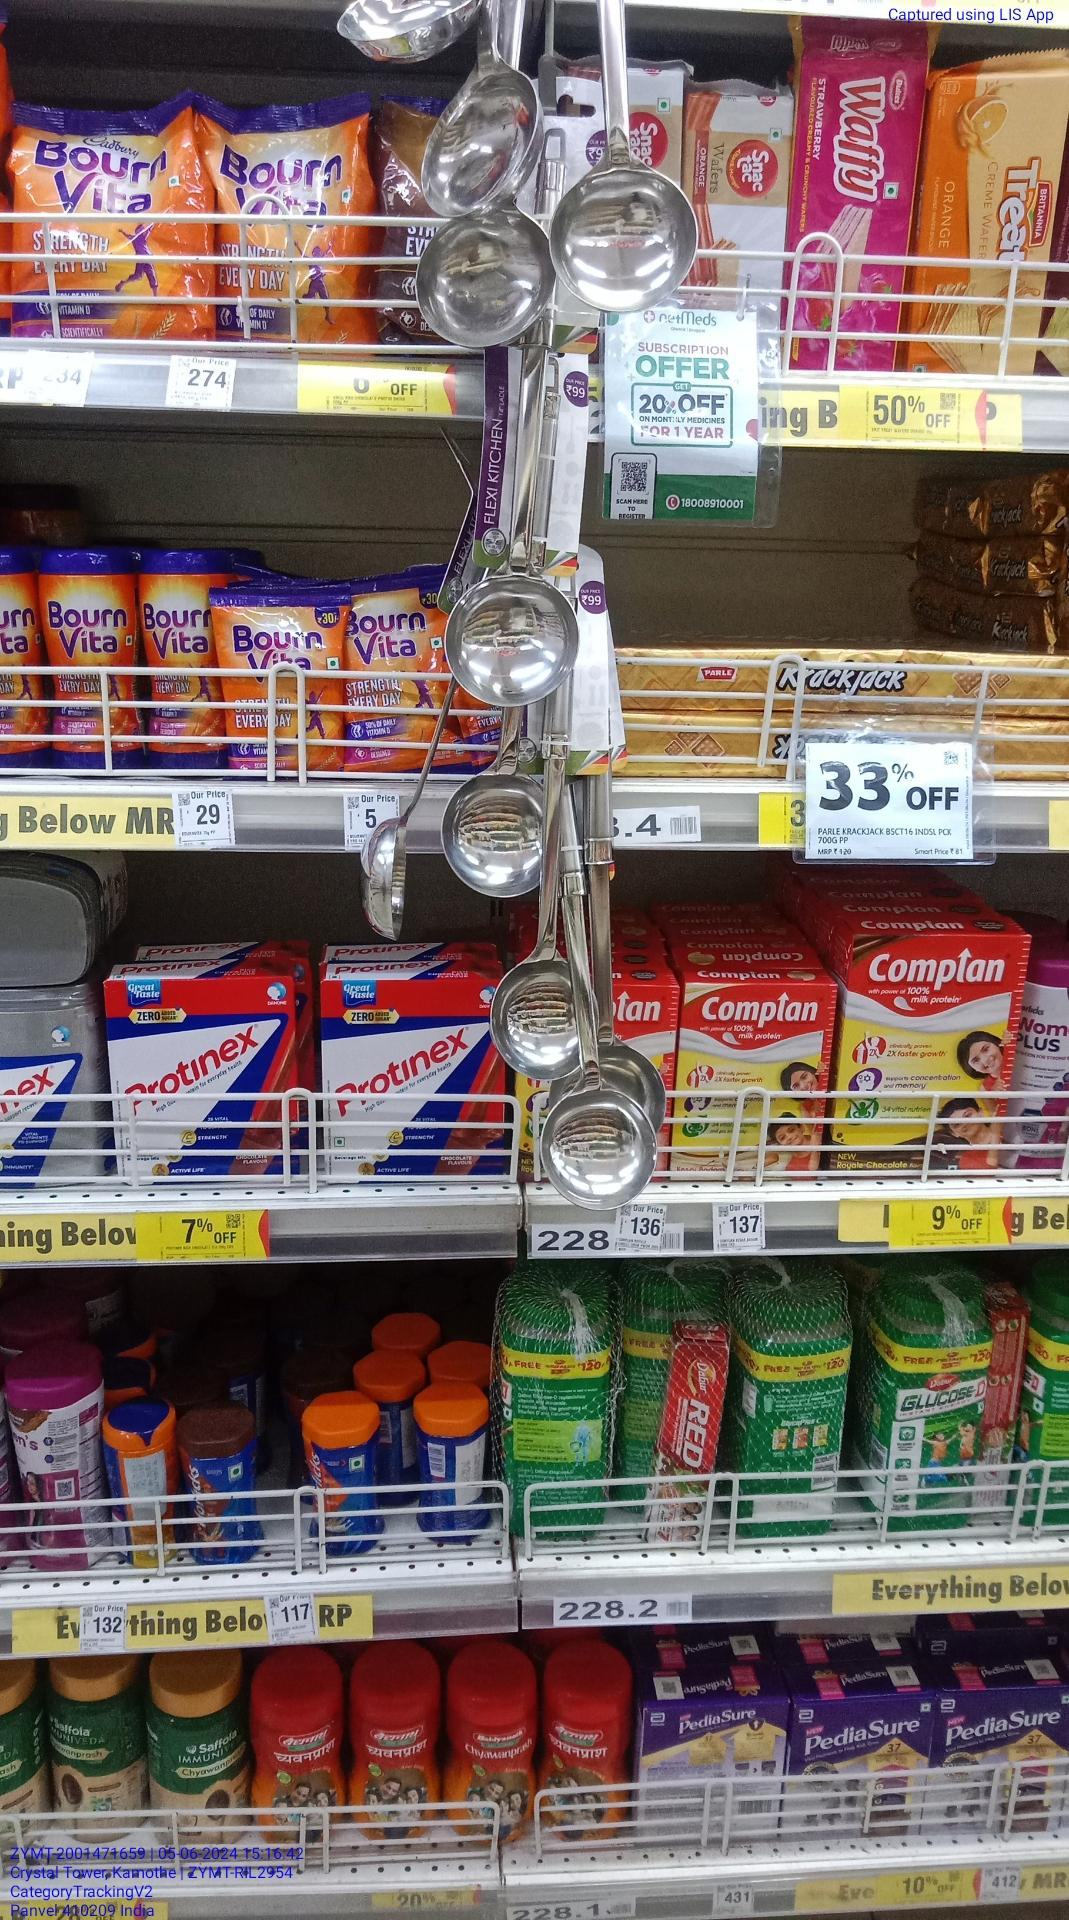BOURN_VITA_200_G_JAR: (39, 543, 134, 780), (145, 543, 211, 770)
BOURN_VITA_500_G_POUCH: (8, 104, 209, 324), (213, 104, 367, 355)
BOURN_VITA_75_G_POUCH: (216, 591, 345, 778), (349, 579, 469, 772)
HORLICK_CHOCOLATE_200_G_JAR: (175, 1428, 250, 1571)
PEDIASURE_CHOCOLATE_500_G_PACK: (936, 1690, 1069, 1834), (794, 1699, 926, 1841)
